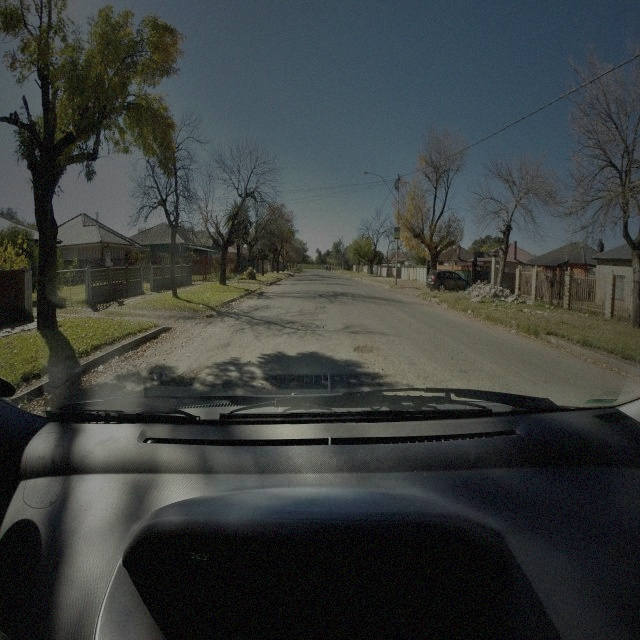pothole: (353, 343, 375, 356)
